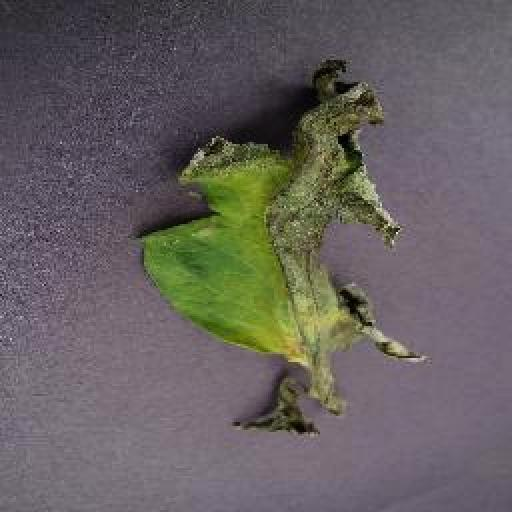disease_tomato: (135, 57, 417, 435)
